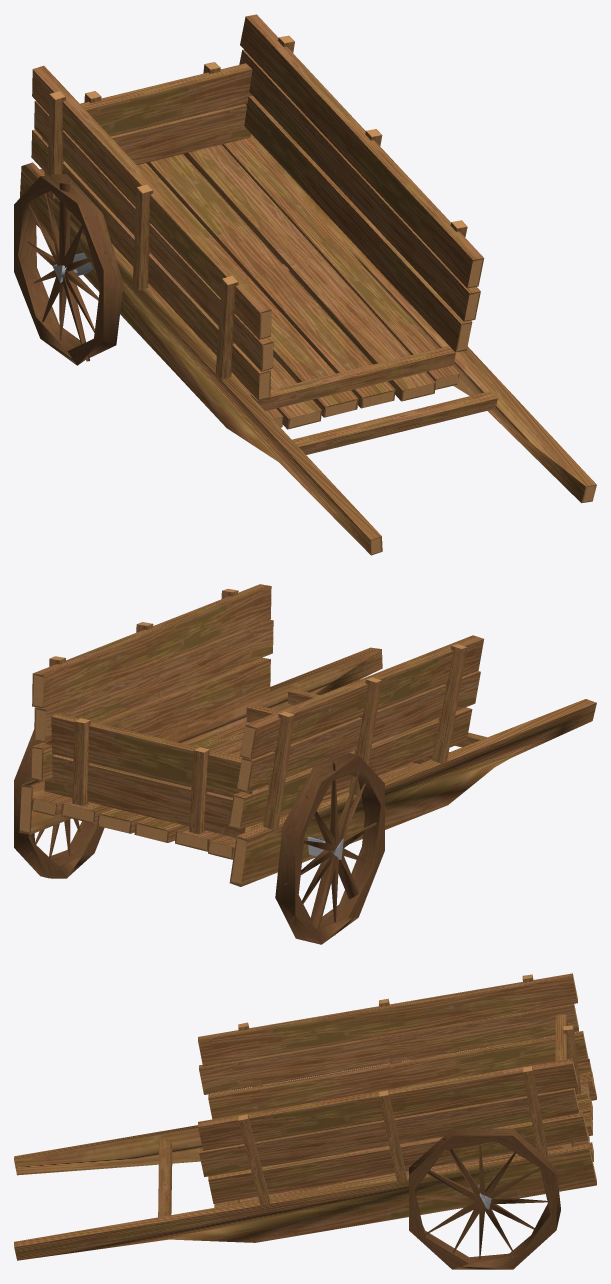
The model's file is Prop_Wagon.gltf.
3 views of the same model, one above another, from view 1: azimuth 30°, elevation 25°; view 2: azimuth 150°, elevation 25°; view 3: azimuth 270°, elevation 25° (orthographic). The views are drawn at different scales.
Visible parts, largest first — view 1: Prop_Wagon; view 2: Prop_Wagon; view 3: Prop_Wagon.
Boxes of the visible parts, bbox=[...] form: Prop_Wagon: bbox=[14, 14, 596, 555]; Prop_Wagon: bbox=[14, 584, 596, 944]; Prop_Wagon: bbox=[14, 973, 596, 1269].
Bounding box in the file's own units: 1.85 × 1.52 × 4.02.
1 material, 1 textured.
